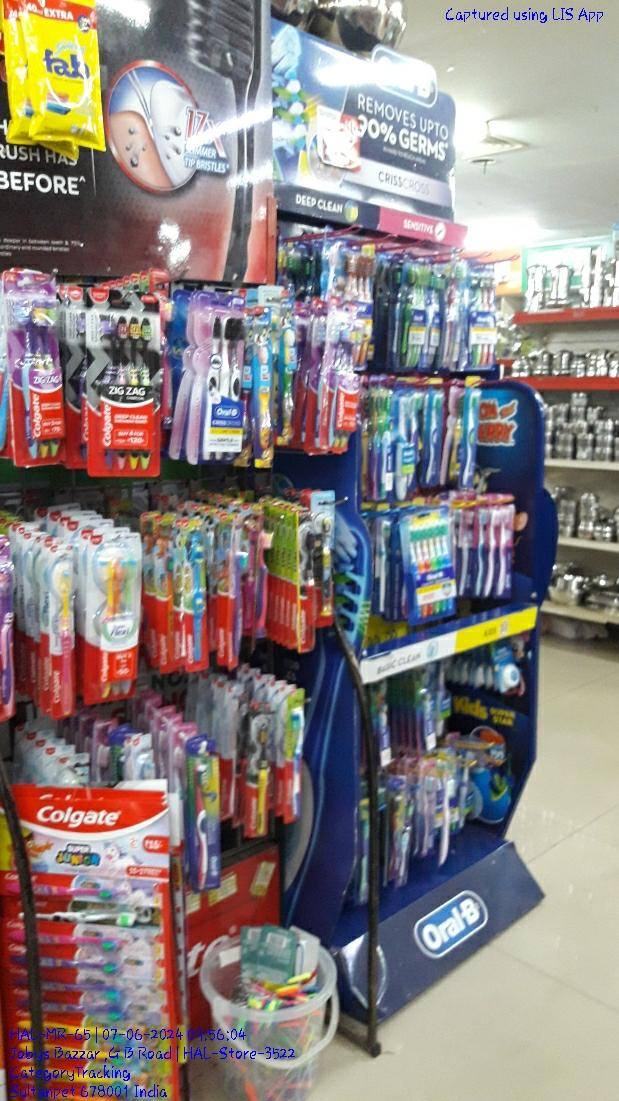liquid soap: (84, 287, 163, 478)
